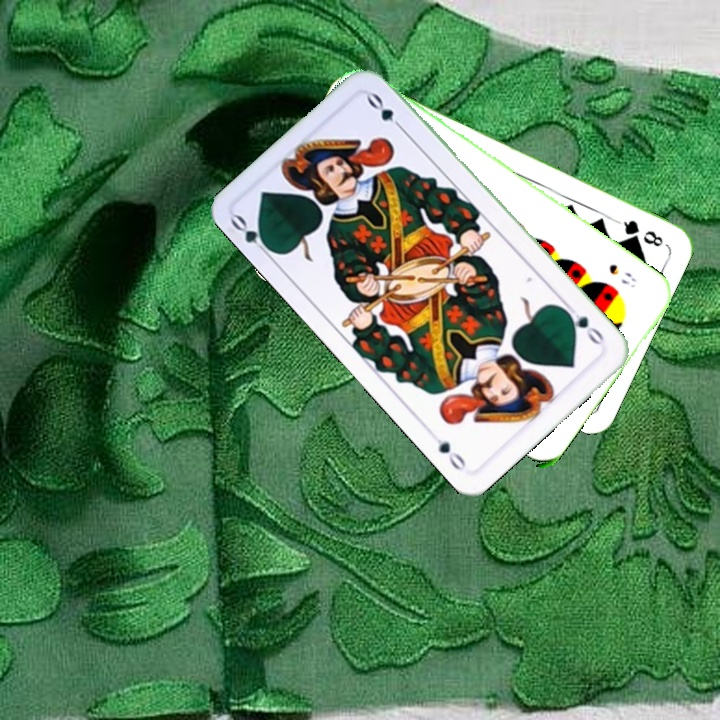G8: (613, 216, 666, 249)
GO: (226, 210, 277, 260), (560, 301, 607, 348)
S8: (605, 260, 640, 291)
